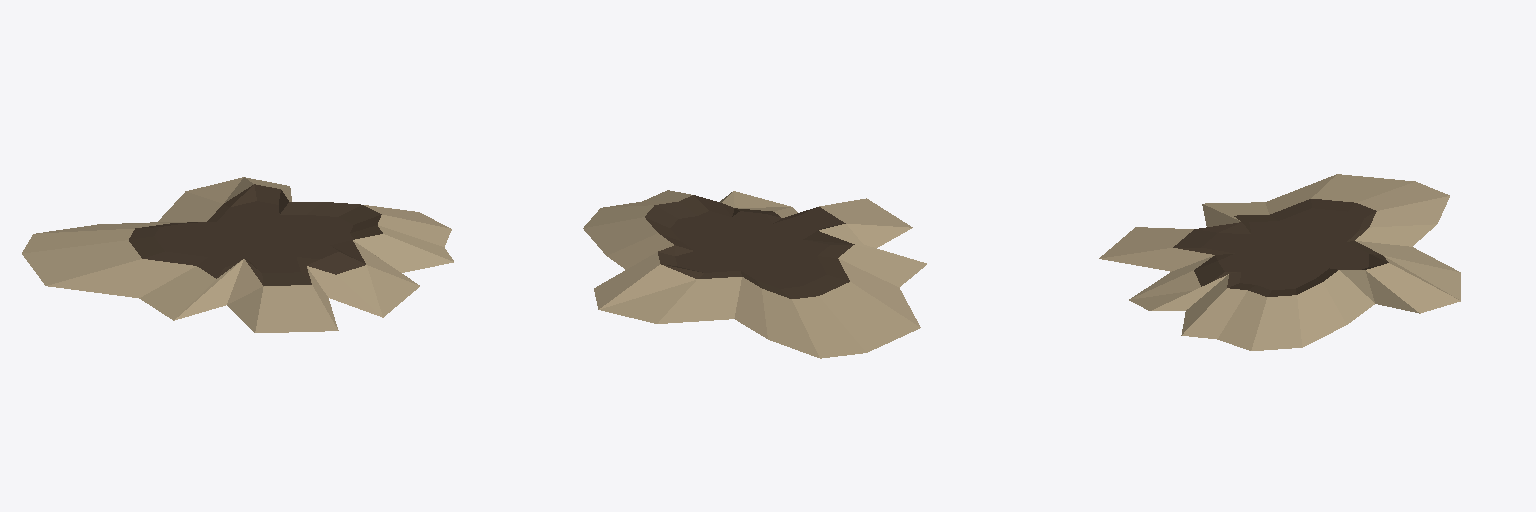
Rendered from crater1.obj.
3 renders of one model, left to right at view 1: azimuth 30°, elevation 25°; view 2: azimuth 150°, elevation 25°; view 3: azimuth 270°, elevation 25°, orthographic.
Visible parts, largest first — view 1: crater1; view 2: crater1; view 3: crater1.
Boxes of the visible parts, x1=… form: crater1: x1=22, y1=177, x2=453, y2=332; crater1: x1=583, y1=190, x2=926, y2=358; crater1: x1=1099, y1=174, x2=1460, y2=350.
Size of the model in its own units: 29.63 by 2.95 by 25.62.